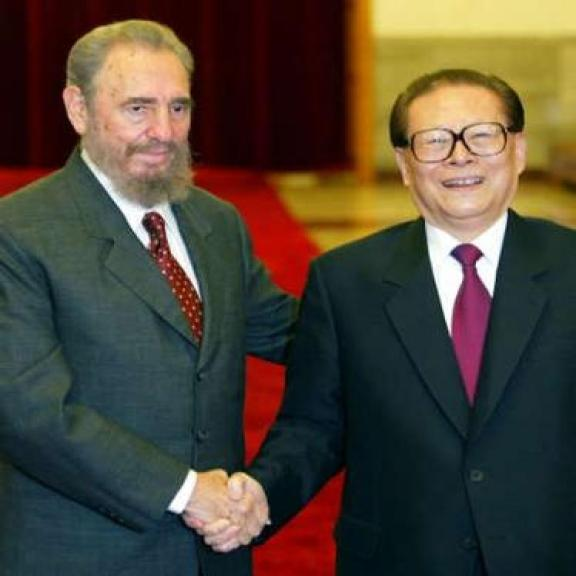face: (390, 95, 531, 222), (65, 50, 193, 184)
